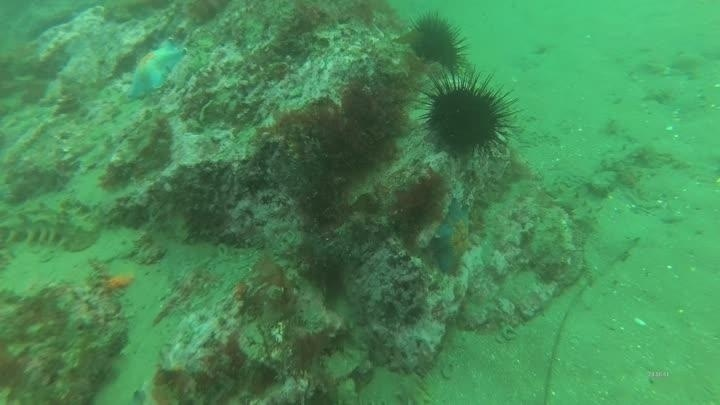echinus: (418, 71, 519, 159), (400, 11, 472, 76)
holothurian: (1, 202, 102, 254), (547, 178, 602, 235), (388, 363, 440, 405)
starfish: (124, 36, 188, 102), (429, 198, 479, 276)
